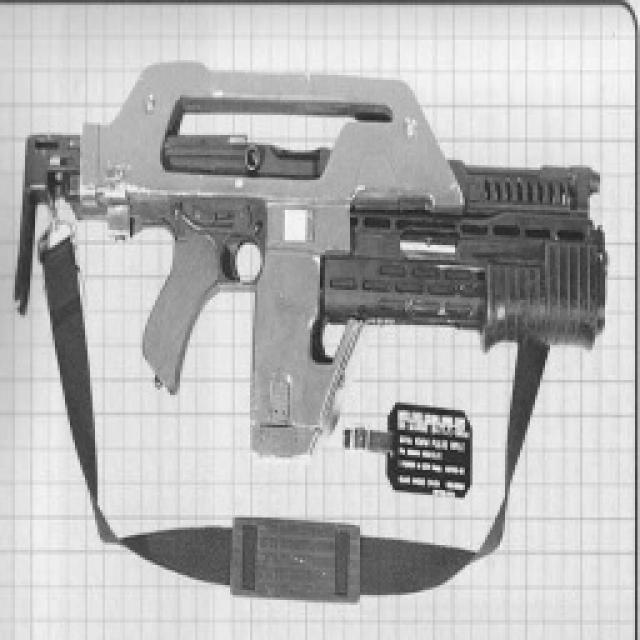long weapon: (10, 38, 639, 449)
